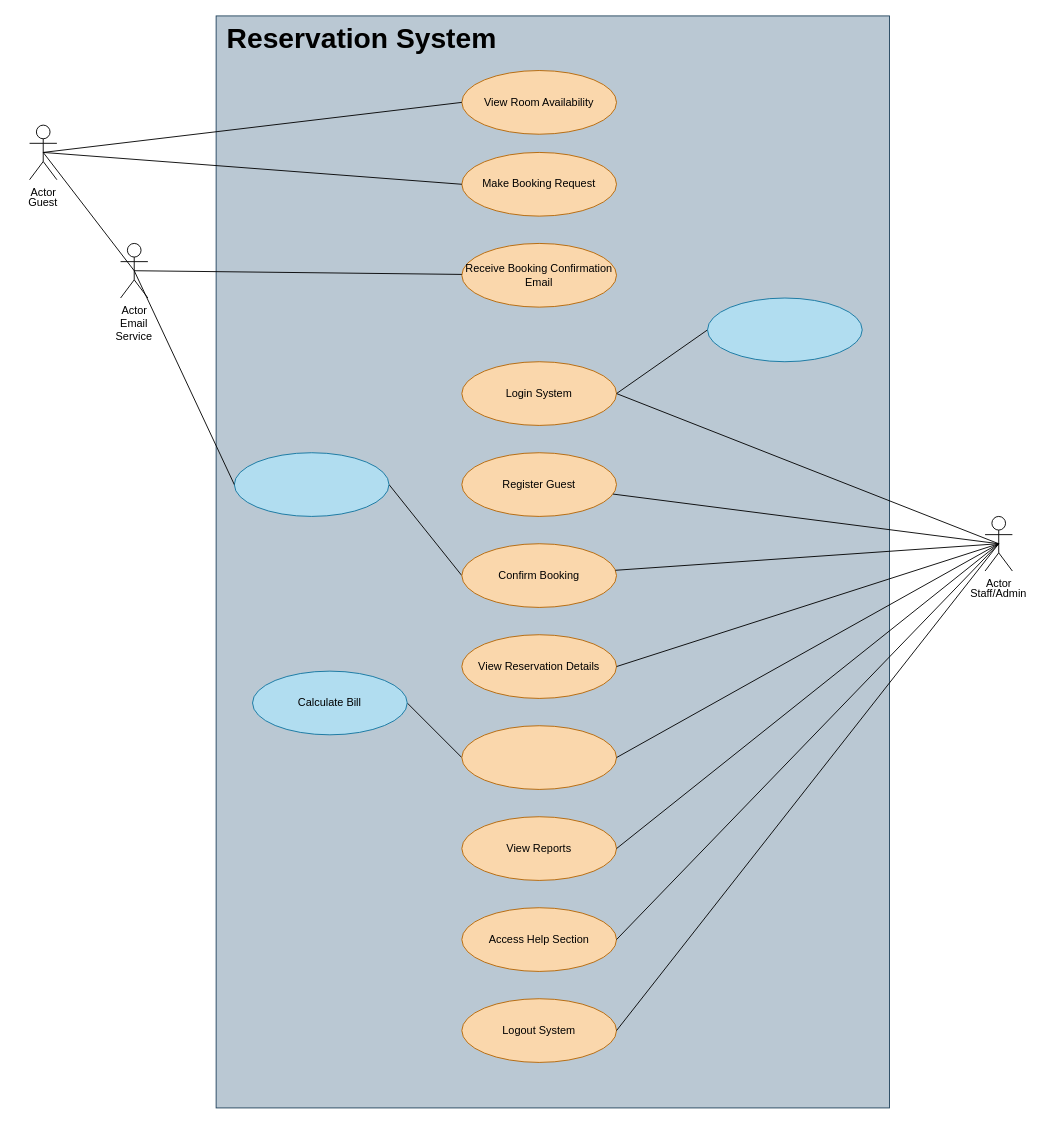
This 1042x1124 diagram has some shape labels left out. The box of each missing label's shape, as (x1, y1, x2, y2) in pixels:
Authenticate User: (707, 297, 862, 362)
Generate Bill: (461, 725, 617, 789)
Send Email Notification: (233, 452, 389, 516)
